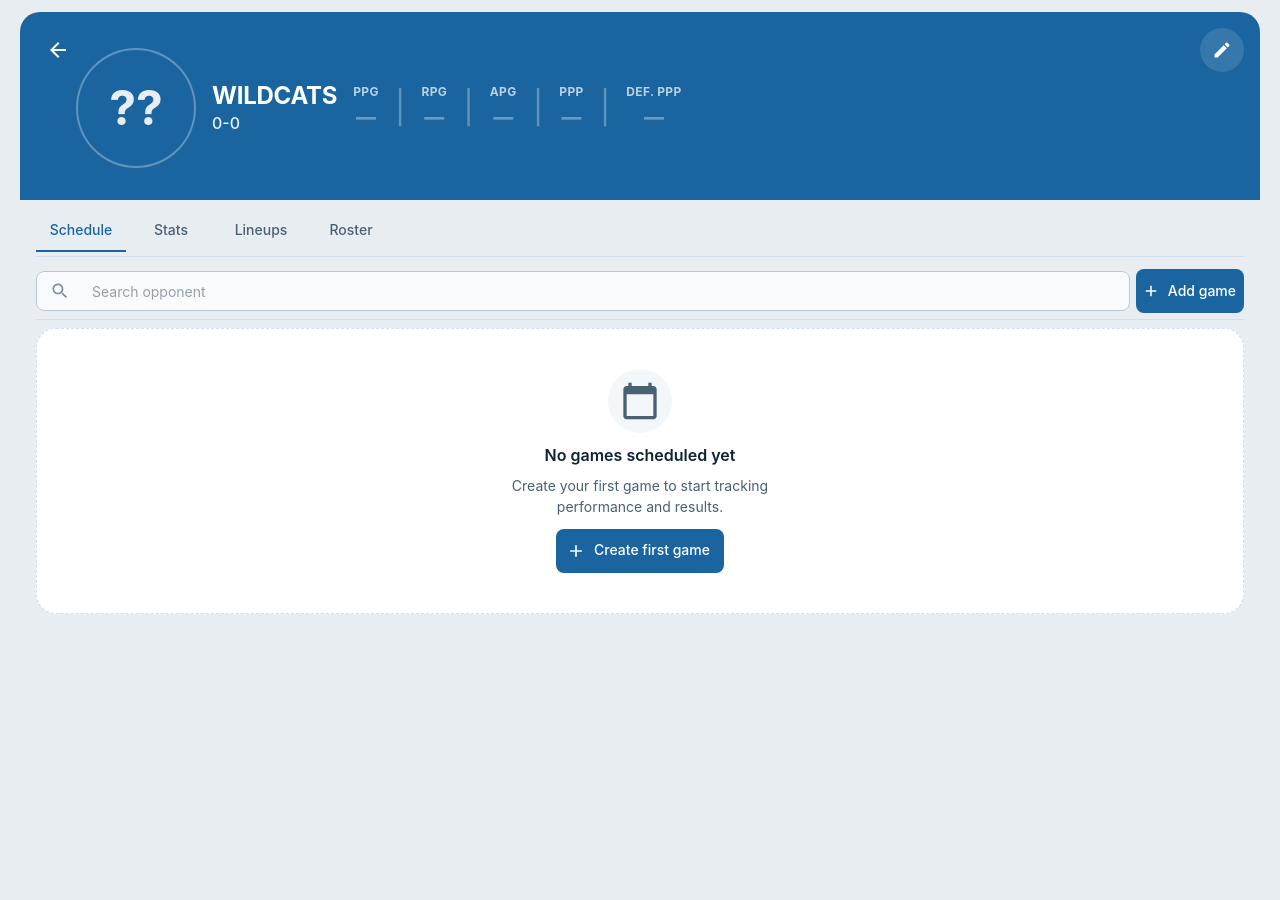
TeamStats Page › opens TeamSettingsDialog when edit button in banner is clicked
Click the button named "Edit team settings": click(1222, 50) [1200,28,1244,72]
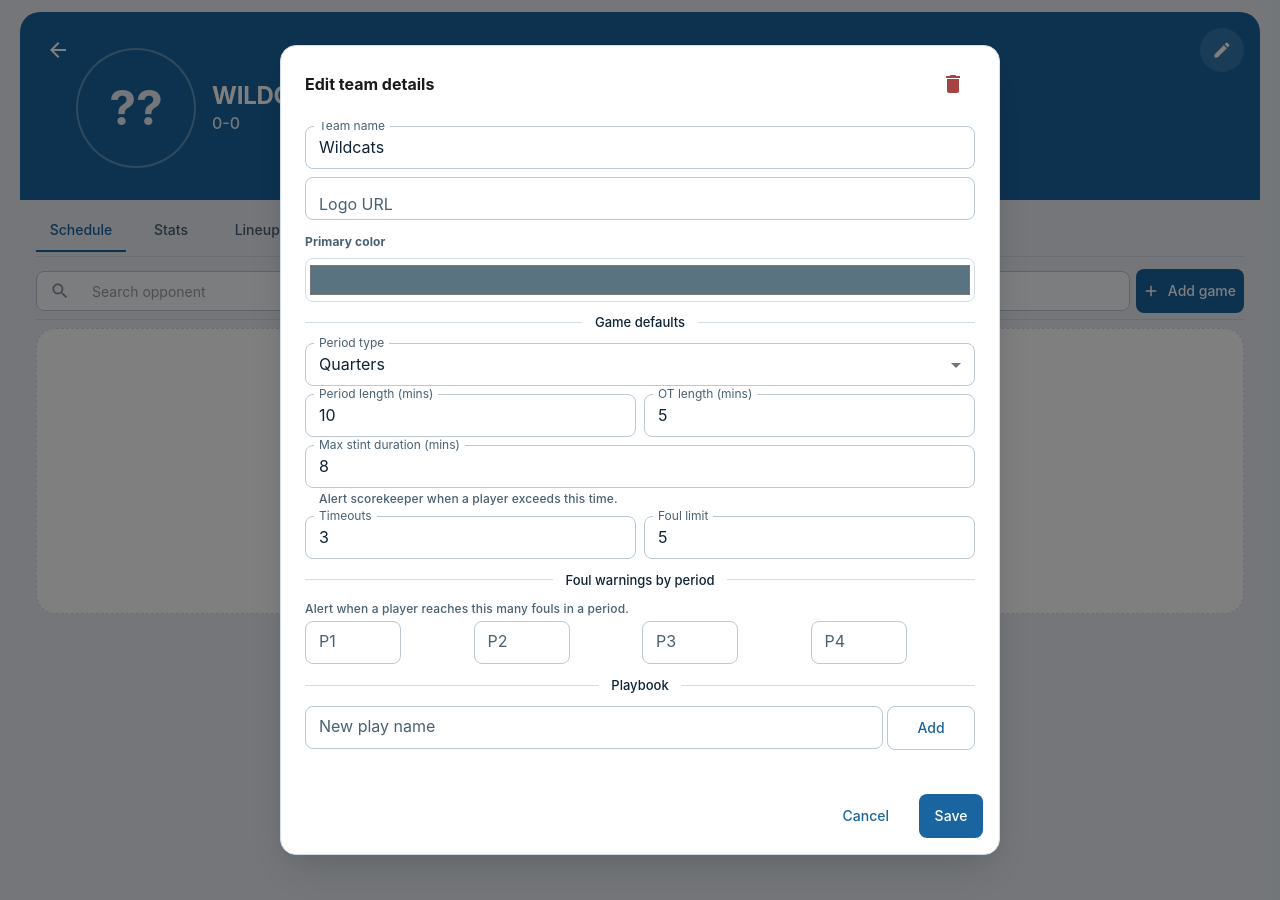
Expected: the dialog is shown, [280,45,1000,855]
